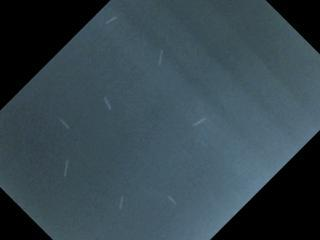scratch: (99, 91, 122, 116), (151, 43, 169, 69), (58, 156, 75, 179), (190, 115, 210, 132), (103, 12, 119, 28), (163, 193, 177, 209), (117, 193, 128, 211), (58, 117, 71, 129)
